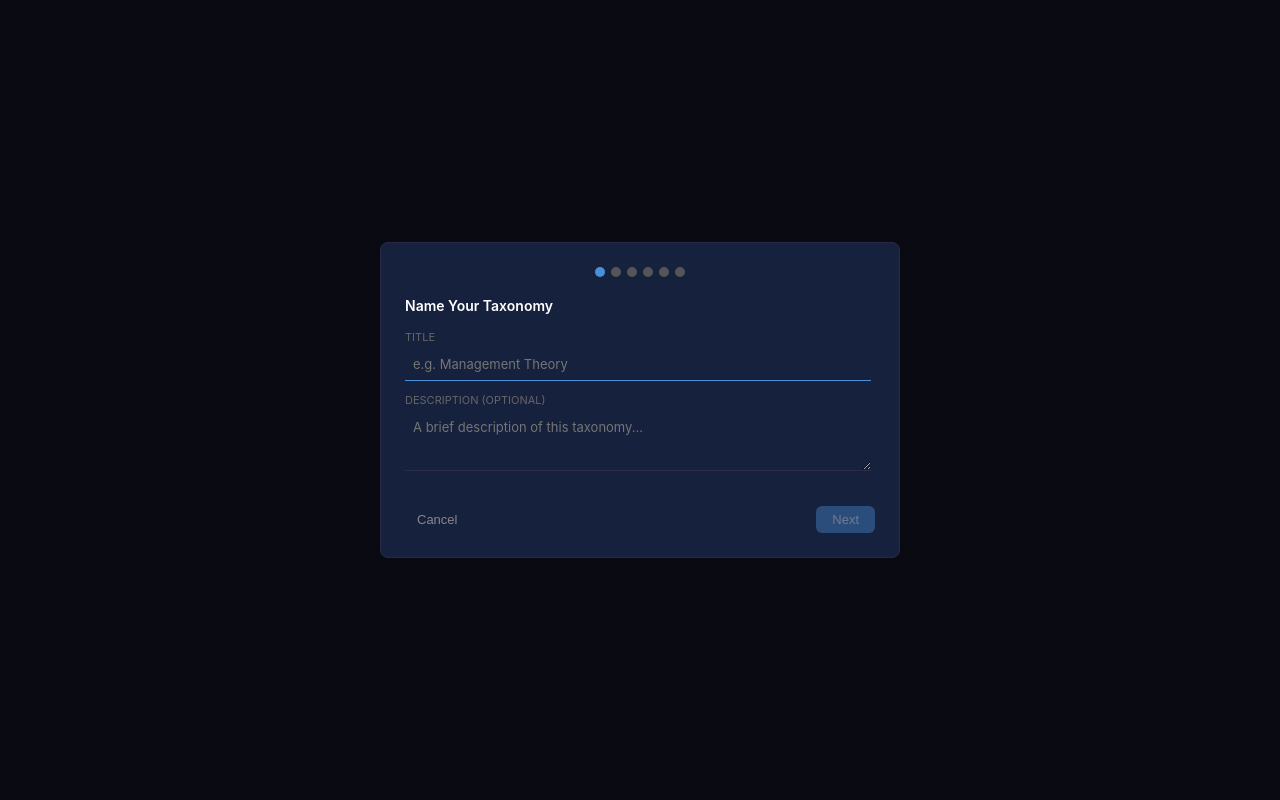
it: TaxonomyWizard › classifiers step shows default classifier
Type "Test Map" into the field with placeholder "e.g. Management Theory" at (638, 364), box [405,348,871,381]
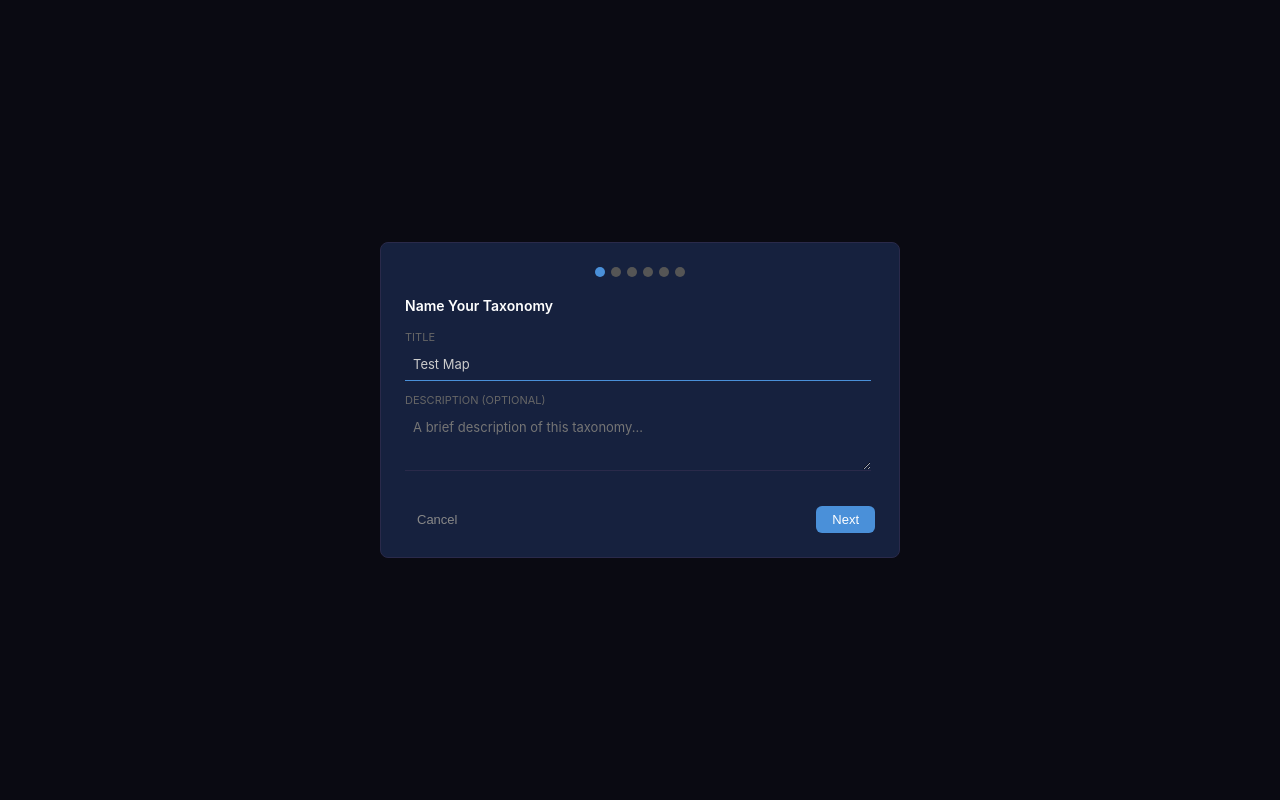
Click the button "Next" at (846, 520), box [816,506,875,533]
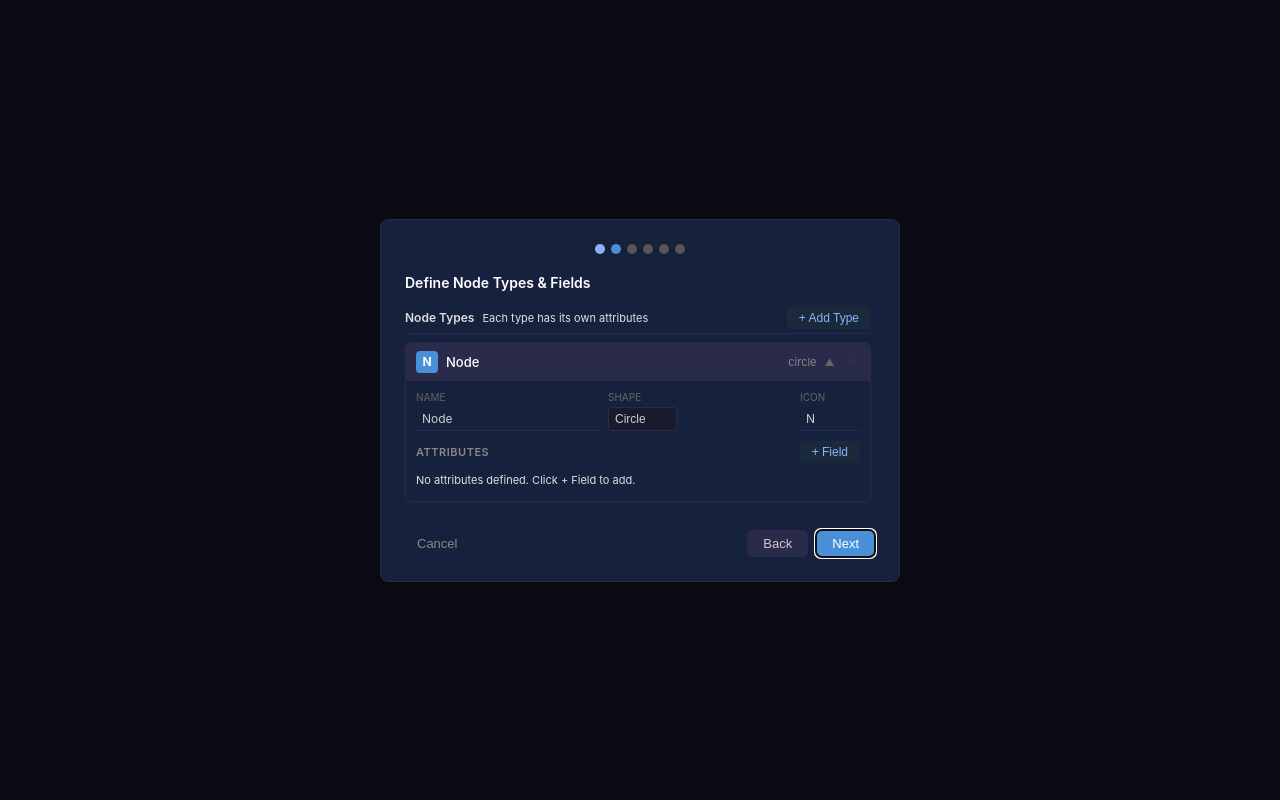
Click the button "Next" at (846, 543), box [816,530,875,556]
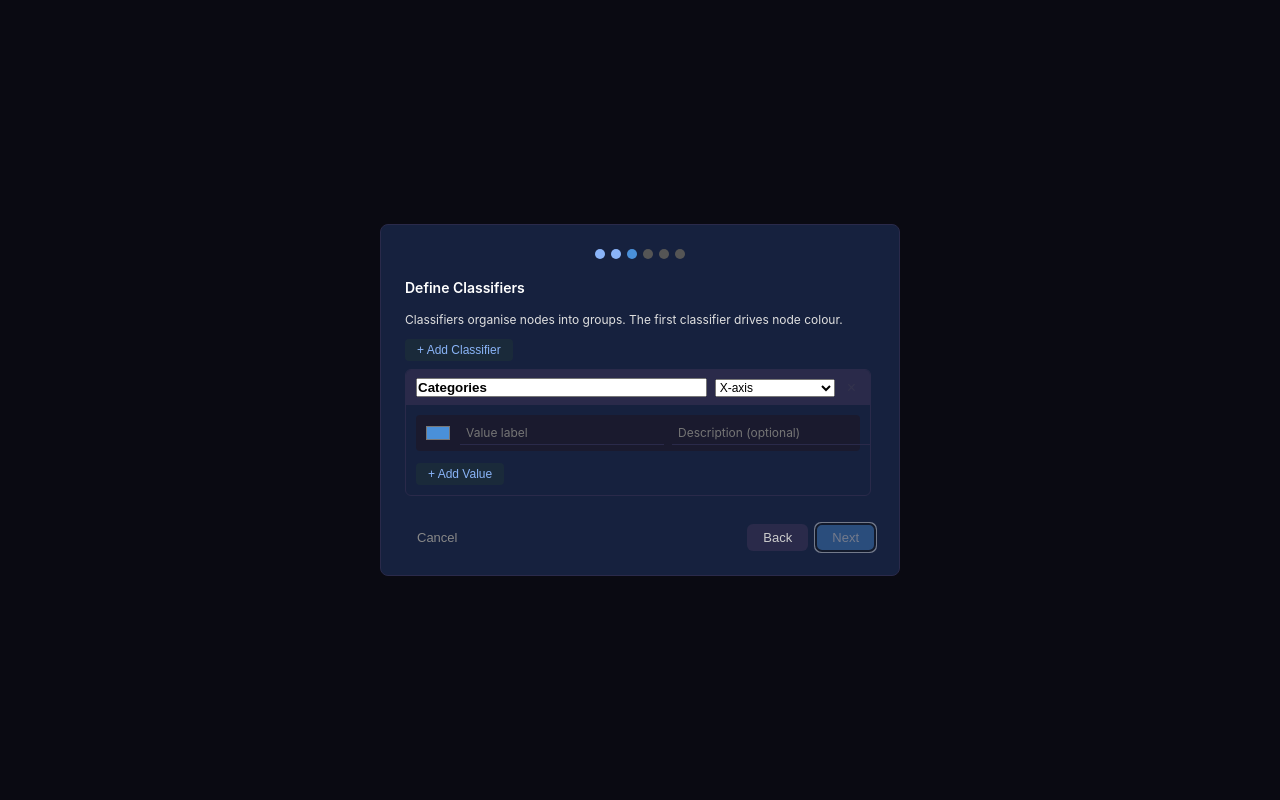
Now the text "Define Classifiers" is shown, box [405,279,525,296]
